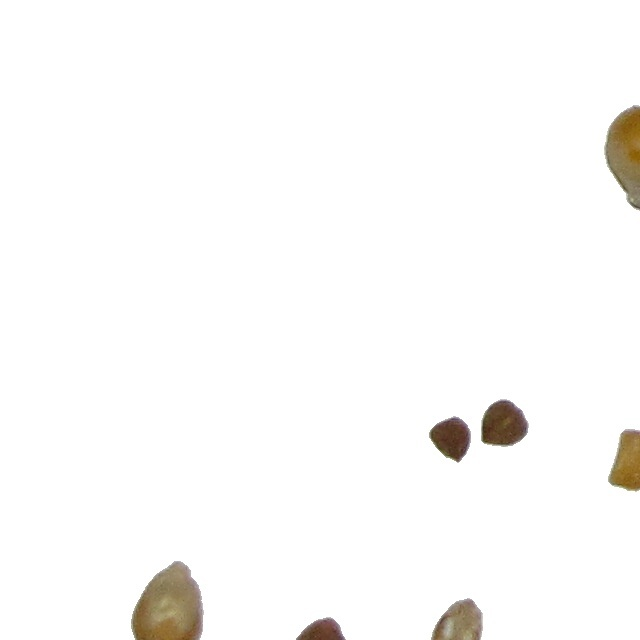buckwheat: (286, 616, 349, 640)
mais: (130, 560, 205, 640), (603, 104, 640, 212)
other: (480, 398, 530, 448), (428, 597, 484, 640), (428, 415, 472, 464), (607, 428, 640, 493)
